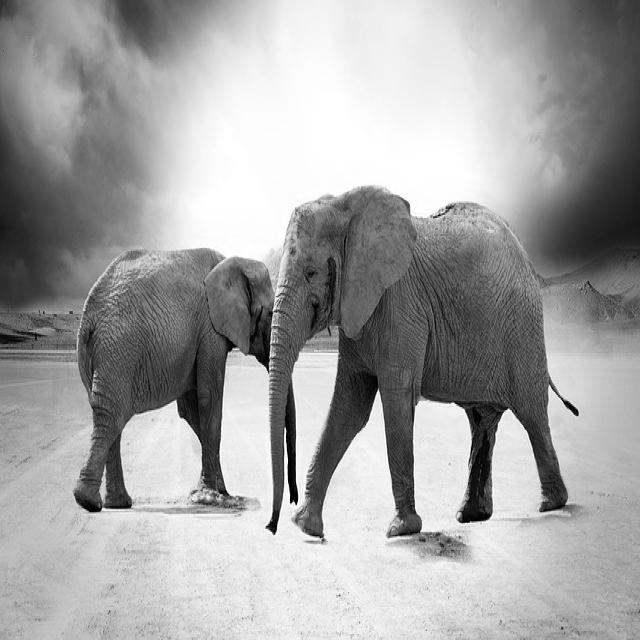elephant: (268, 186, 568, 536), (75, 248, 274, 510)
